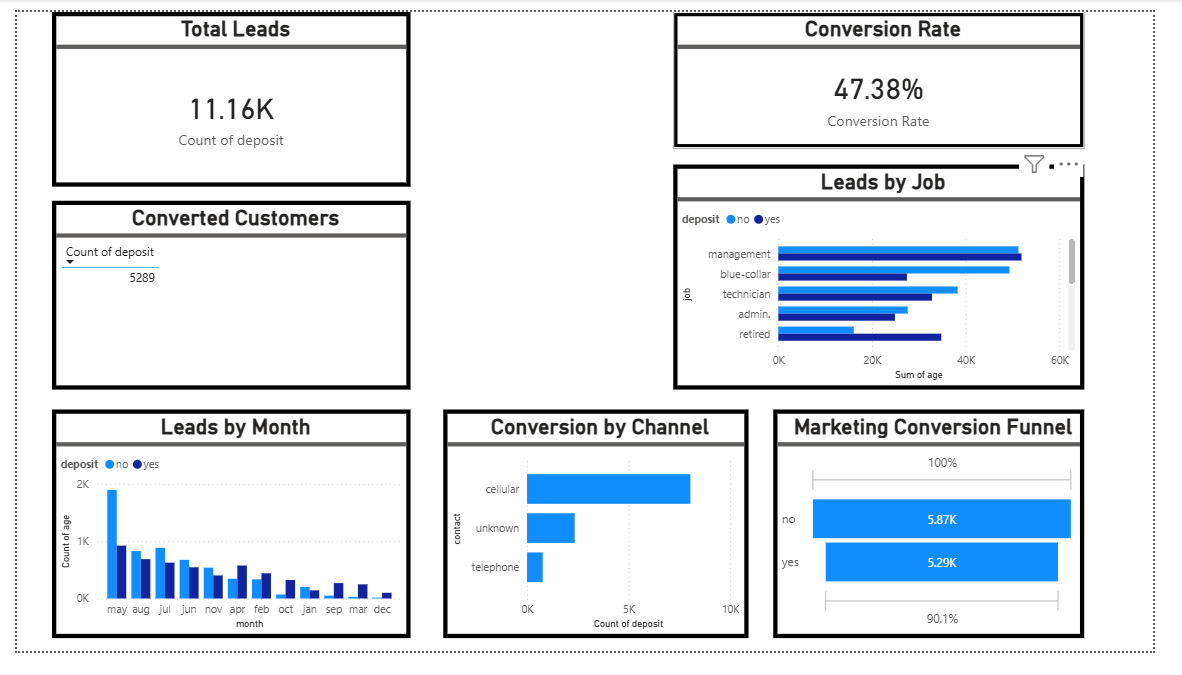

Layout of this report page (visuals, bound fields, positions):
{"tool":"powerbi","page":{"name":"Page 1","canvas":[1280,720],"ordinal":0},"visuals":[{"type":"clusteredBarChart","title":"Conversion by Channel","fields":{"Category":["bank.contact"],"Y":["CountNonNull(bank.deposit)"]},"box":[480.3,447.9,343.7,257.7],"z":1001},{"type":"clusteredBarChart","title":"Leads by Job","fields":{"Category":["bank.job"],"Series":["bank.deposit"],"Y":["Sum(bank.age)"]},"box":[739.4,171.8,463.4,253.5],"z":1002},{"type":"clusteredColumnChart","title":"Leads by Month","fields":{"Series":["bank.deposit"],"Category":["bank.month"],"Y":["CountNonNull(bank.age)"]},"box":[39.4,447.9,404.2,257.7],"z":1003},{"type":"funnel","title":"Marketing Conversion Funnel","fields":{"Y":["CountNonNull(bank.age)"],"Category":["bank.deposit"]},"box":[852.1,447.9,350.7,257.7],"z":1004},{"type":"card","title":"Total Leads","fields":{"Values":["CountNonNull(bank.deposit)"]},"box":[39.4,0,404.2,197.2],"z":1005},{"type":"tableEx","title":"Converted Customers","fields":{"Values":["bank.deposit"]},"box":[39.4,212.7,404.2,212.7],"z":1006},{"type":"card","title":"Conversion Rate","fields":{"Values":["bank.Conversion Rate"]},"box":[739.4,0,463.4,153.5],"z":1007}]}

Visuals, with their boxes in screenshot pixels (x1, y1, x2, y2), scaled from the page's 1280x720 canvas onto the 1182x675 screenshot:
"Conversion by Channel" clusteredBarChart: region(444, 420, 761, 661)
"Leads by Job" clusteredBarChart: region(683, 161, 1111, 399)
"Leads by Month" clusteredColumnChart: region(36, 420, 410, 661)
"Marketing Conversion Funnel" funnel: region(787, 420, 1111, 661)
"Total Leads" card: region(36, 0, 410, 185)
"Converted Customers" tableEx: region(36, 199, 410, 399)
"Conversion Rate" card: region(683, 0, 1111, 144)
